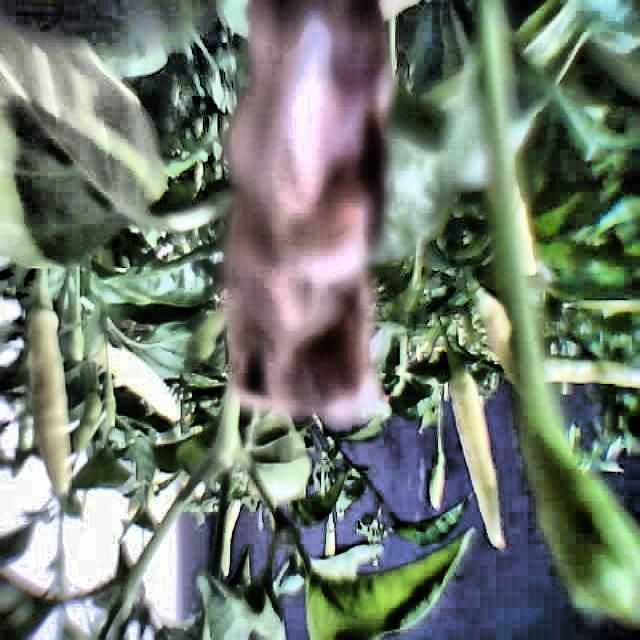Cabai: (212, 0, 380, 456)
